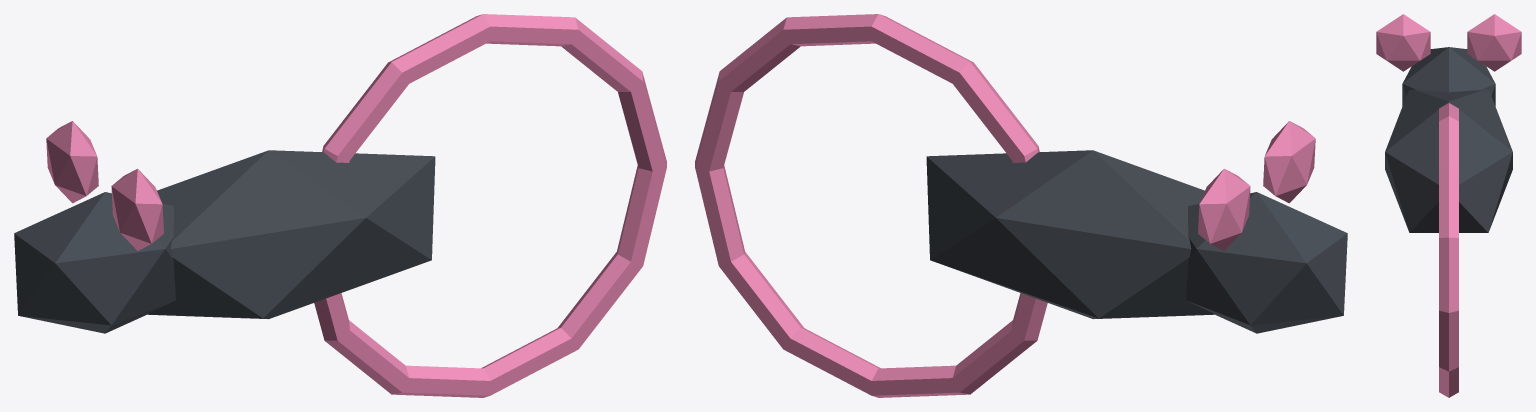
Rendered from Rat.fbx.
3 renders of one model, left to right at view 1: azimuth 30°, elevation 25°; view 2: azimuth 150°, elevation 25°; view 3: azimuth 270°, elevation 25°, orthographic. The views are drawn at different scales.
Visible parts, largest first — view 1: RatBody, RatTail, RatHead, RatEar_-0.1, RatEar_0.1; view 2: RatBody, RatTail, RatHead, RatEar_0.1, RatEar_-0.1; view 3: RatBody, RatTail, RatHead, RatEar_-0.1, RatEar_0.1.
Boxes of the visible parts, <box> form: RatBody: <box>146,150,435,319</box>; RatTail: <box>314,14,666,397</box>; RatHead: <box>14,192,175,333</box>; RatEar_-0.1: <box>111,168,163,250</box>; RatEar_0.1: <box>46,121,98,203</box>; RatBody: <box>926,150,1215,319</box>; RatTail: <box>695,14,1047,397</box>; RatHead: <box>1186,192,1347,333</box>; RatEar_0.1: <box>1198,168,1250,250</box>; RatEar_-0.1: <box>1263,121,1315,203</box>; RatBody: <box>1385,89,1512,232</box>; RatTail: <box>1439,103,1458,397</box>; RatHead: <box>1402,47,1495,105</box>; RatEar_-0.1: <box>1376,14,1430,71</box>; RatEar_0.1: <box>1467,14,1521,71</box>.
Size of the model in its own units: 1.15 by 0.65 by 0.3191.
